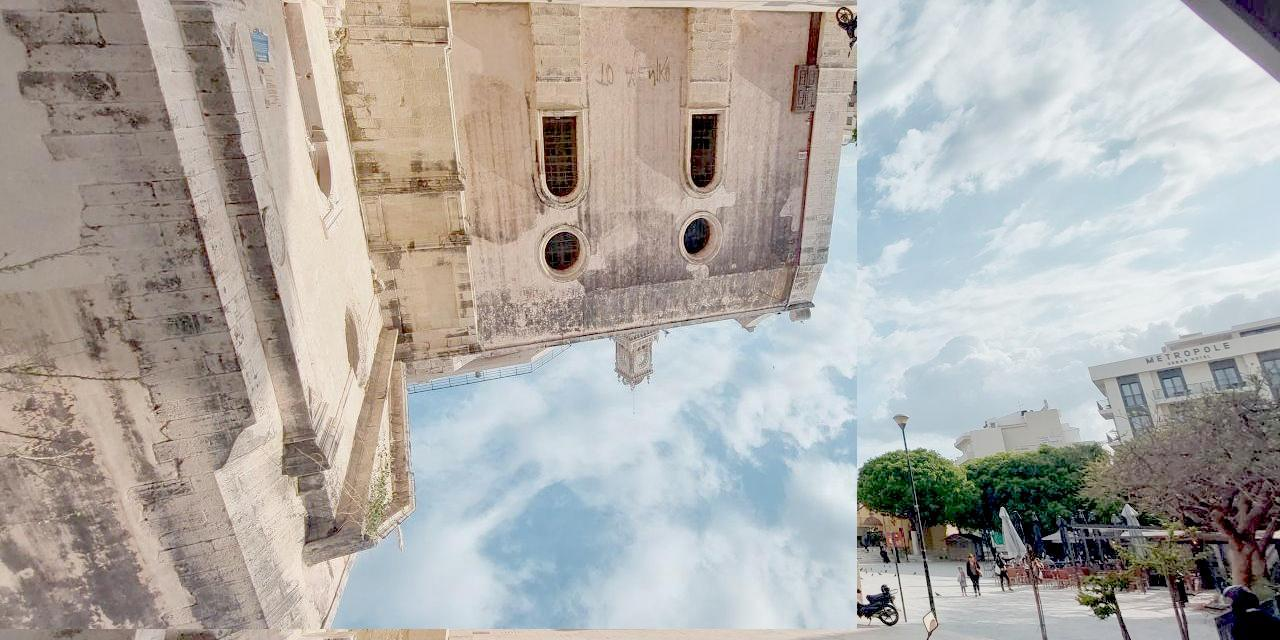Agia Aikaterini: (1, 1, 858, 630)
